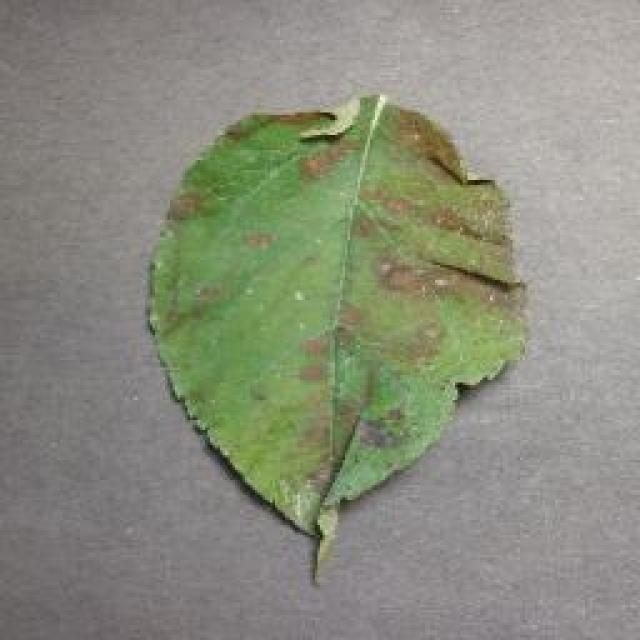apple cedar apple rust: (142, 90, 530, 585)
